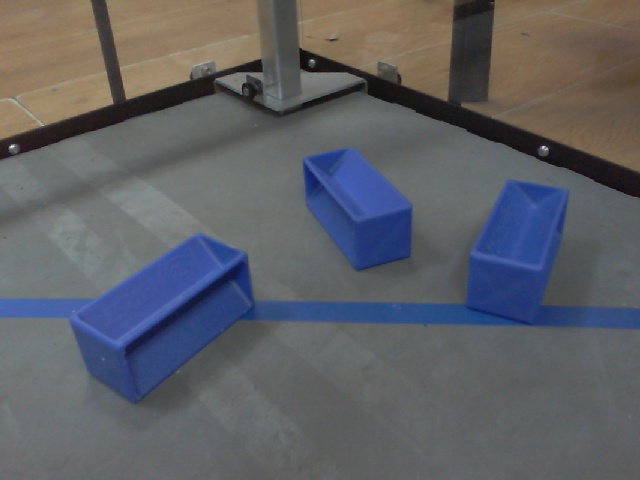BlueSample: (70, 232, 258, 410), (460, 177, 577, 326), (301, 145, 421, 275)
